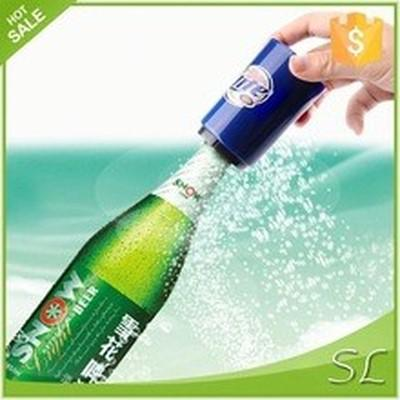beer: (7, 143, 233, 380)
